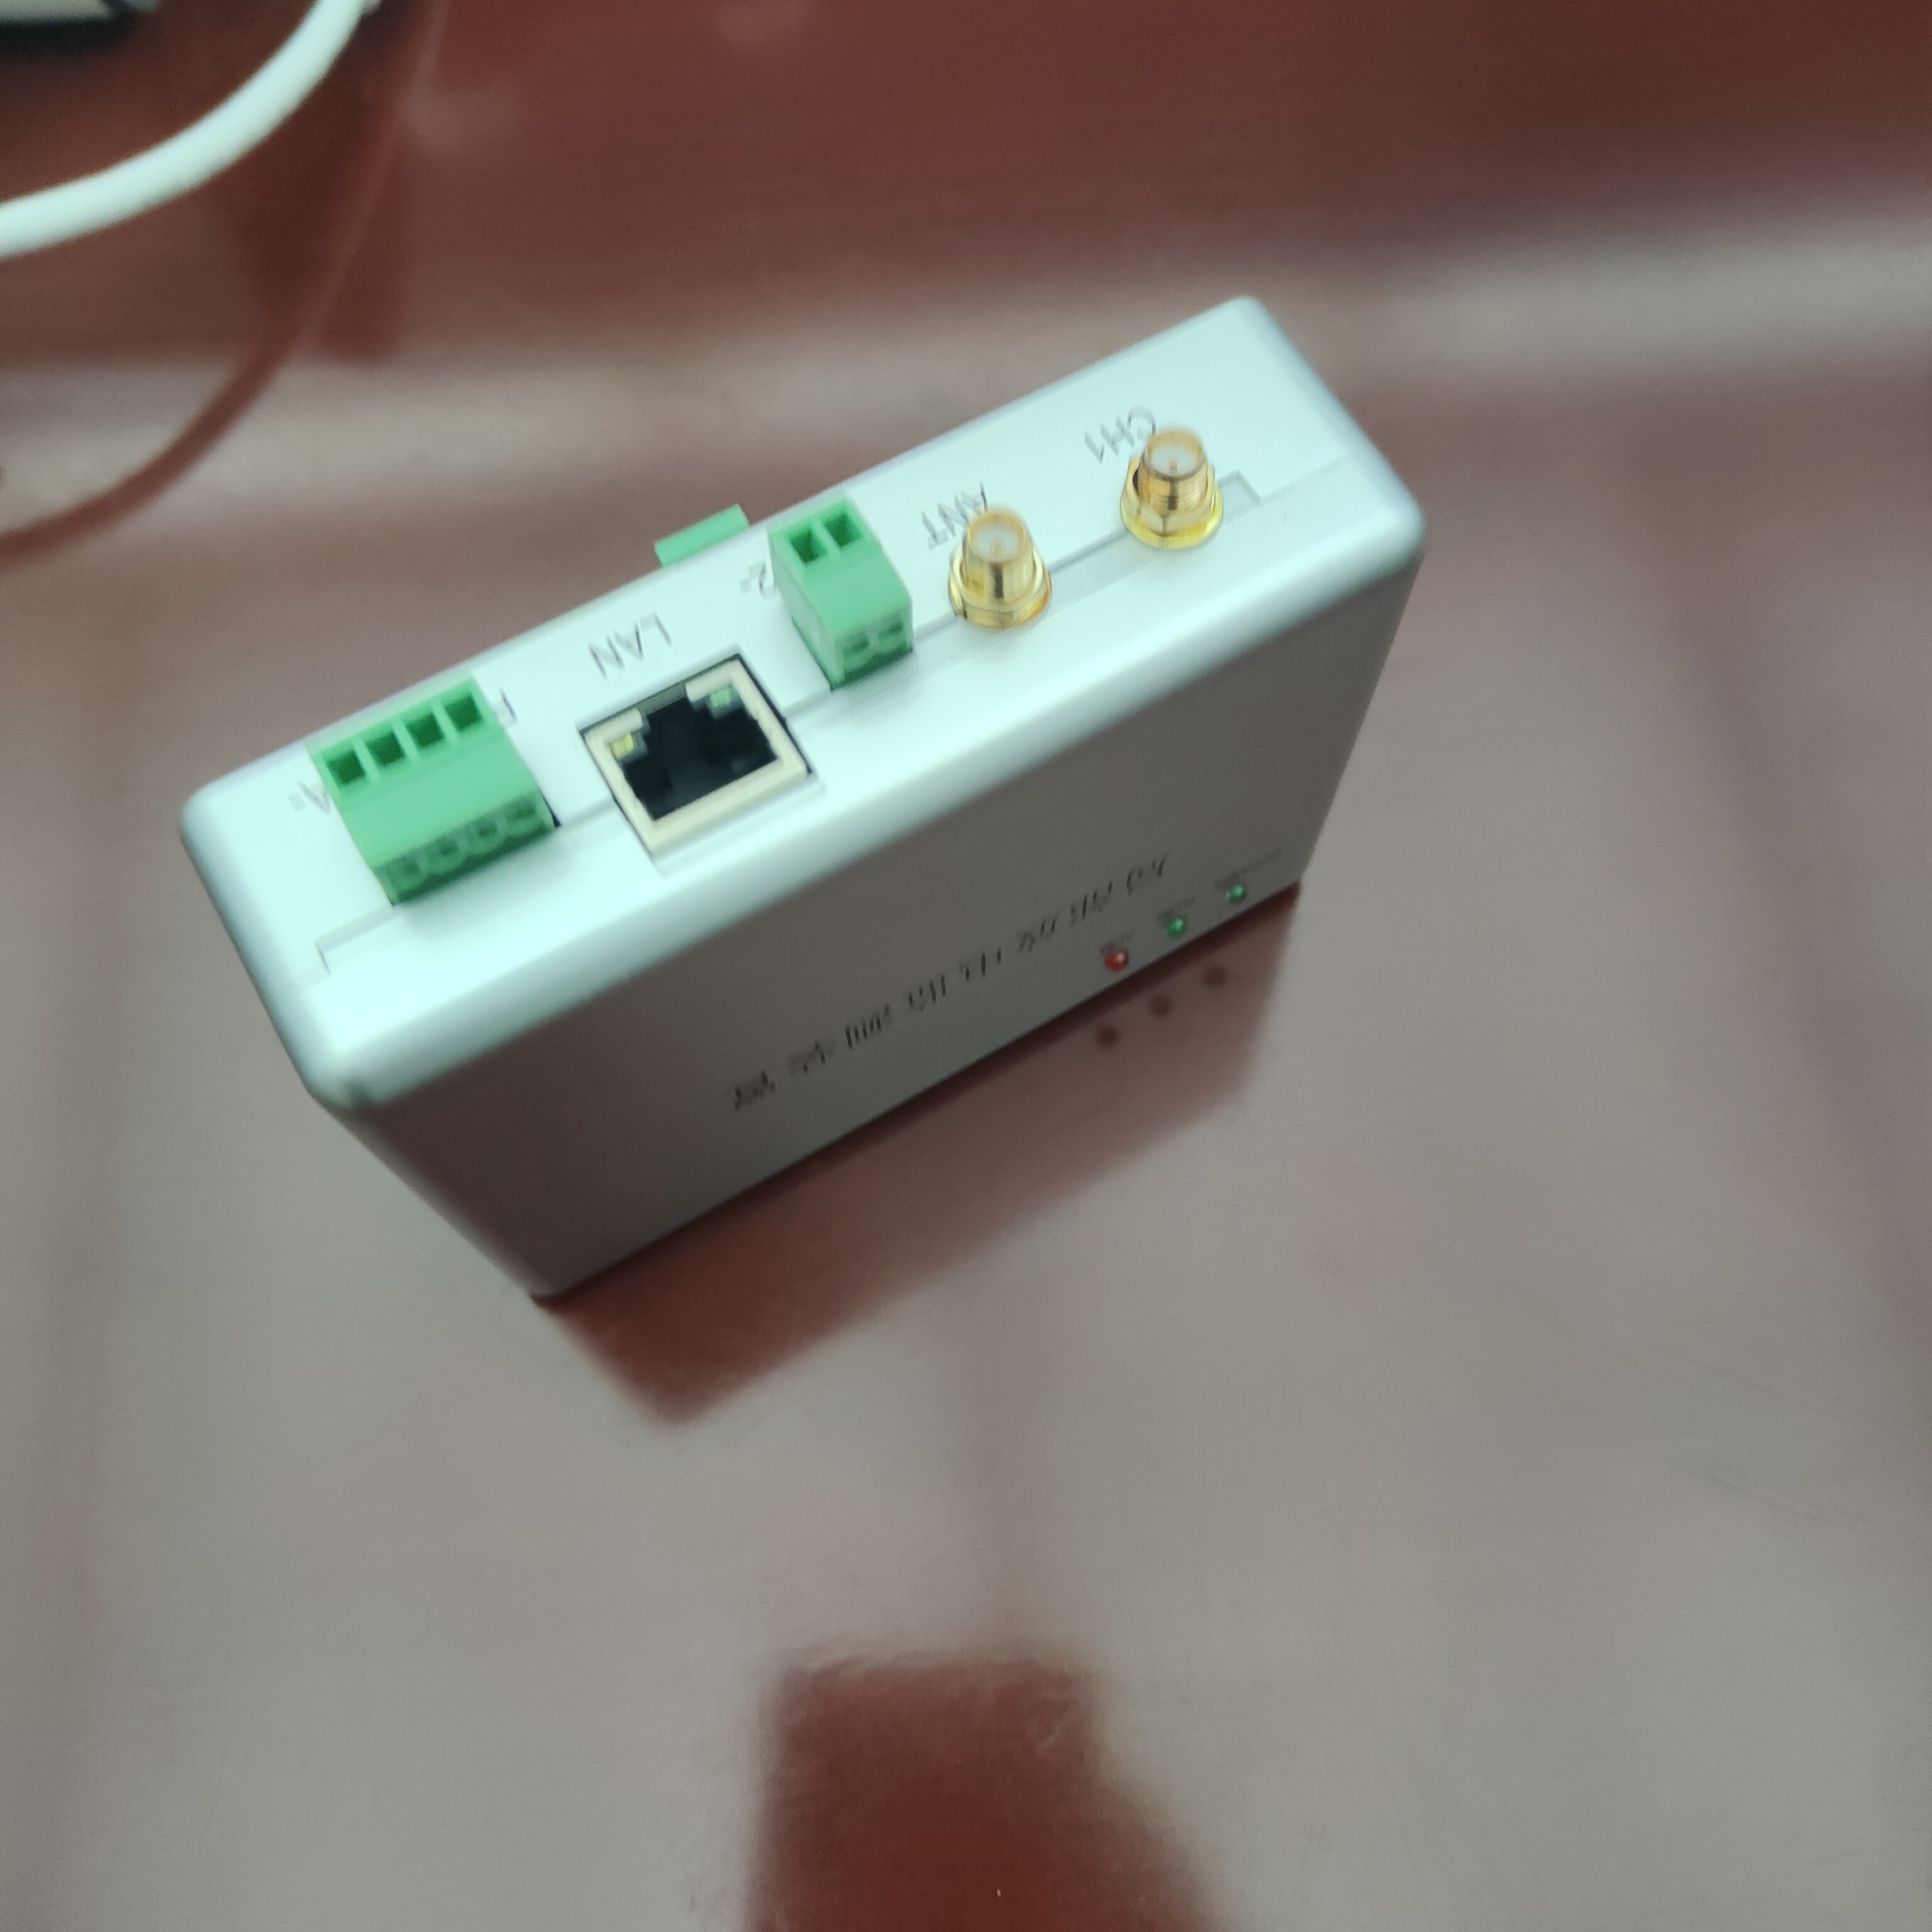jbfdjc: (188, 322, 1484, 1350)
